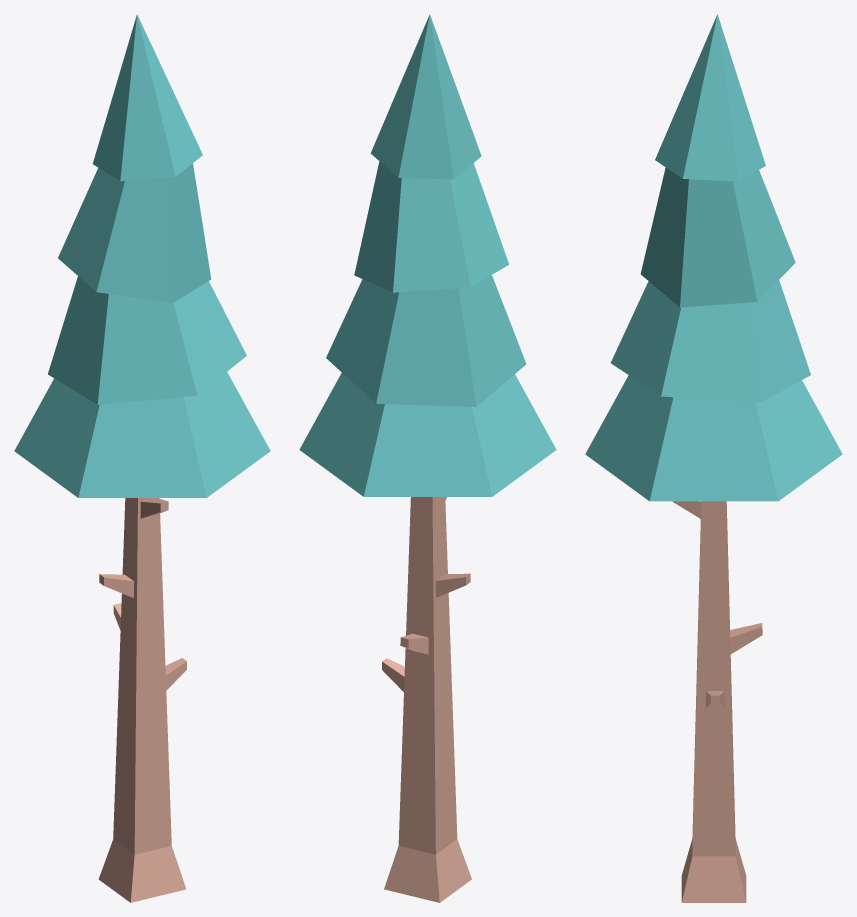
Rendered from tree_pineTallD_detailed.glb.
The picture shows the model from 3 angles, left to right: view 1: azimuth 30°, elevation 25°; view 2: azimuth 150°, elevation 25°; view 3: azimuth 270°, elevation 25°; orthographic projection.
Visible parts, largest first — view 1: tree_pineTallD_detailed; view 2: tree_pineTallD_detailed; view 3: tree_pineTallD_detailed.
Part boxes in pixels (box(x1,y1,x2,y2)): tree_pineTallD_detailed: box(14, 14, 270, 902); tree_pineTallD_detailed: box(299, 14, 556, 902); tree_pineTallD_detailed: box(585, 14, 842, 902).
Bounding box in the file's own units: 0.4804 × 2.08 × 0.5547.
